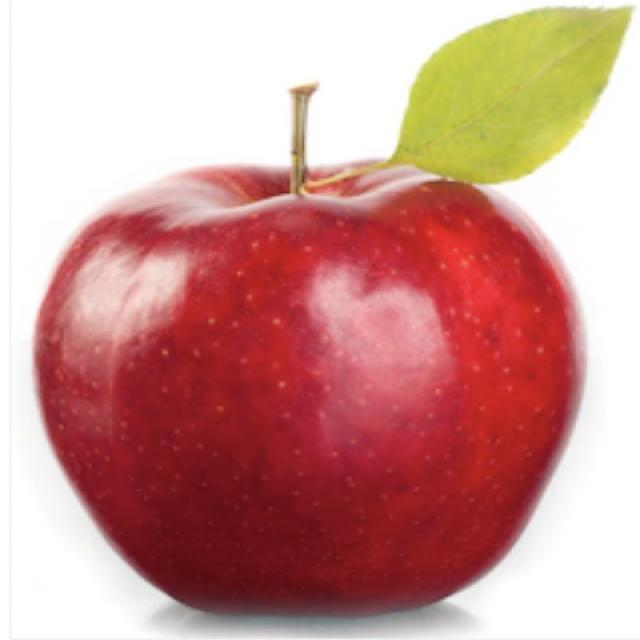Fresh Apple: (48, 148, 570, 598)
